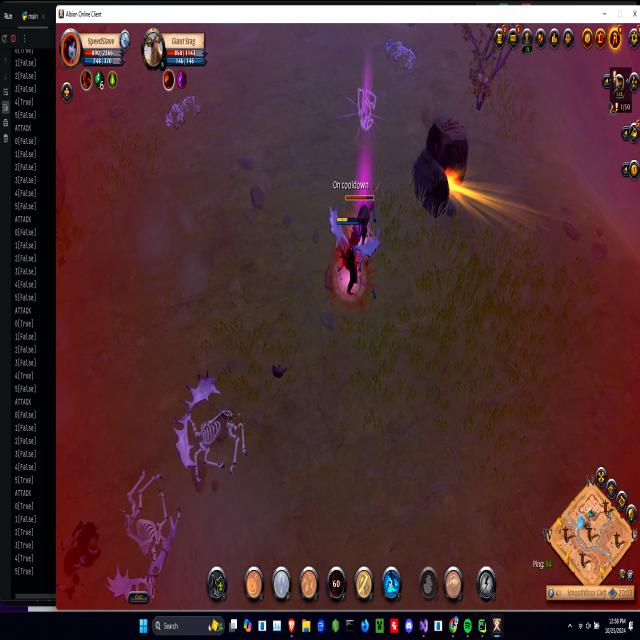hide: (470, 64, 493, 112)
ore: (346, 182, 379, 255)
red: (332, 213, 366, 298)
